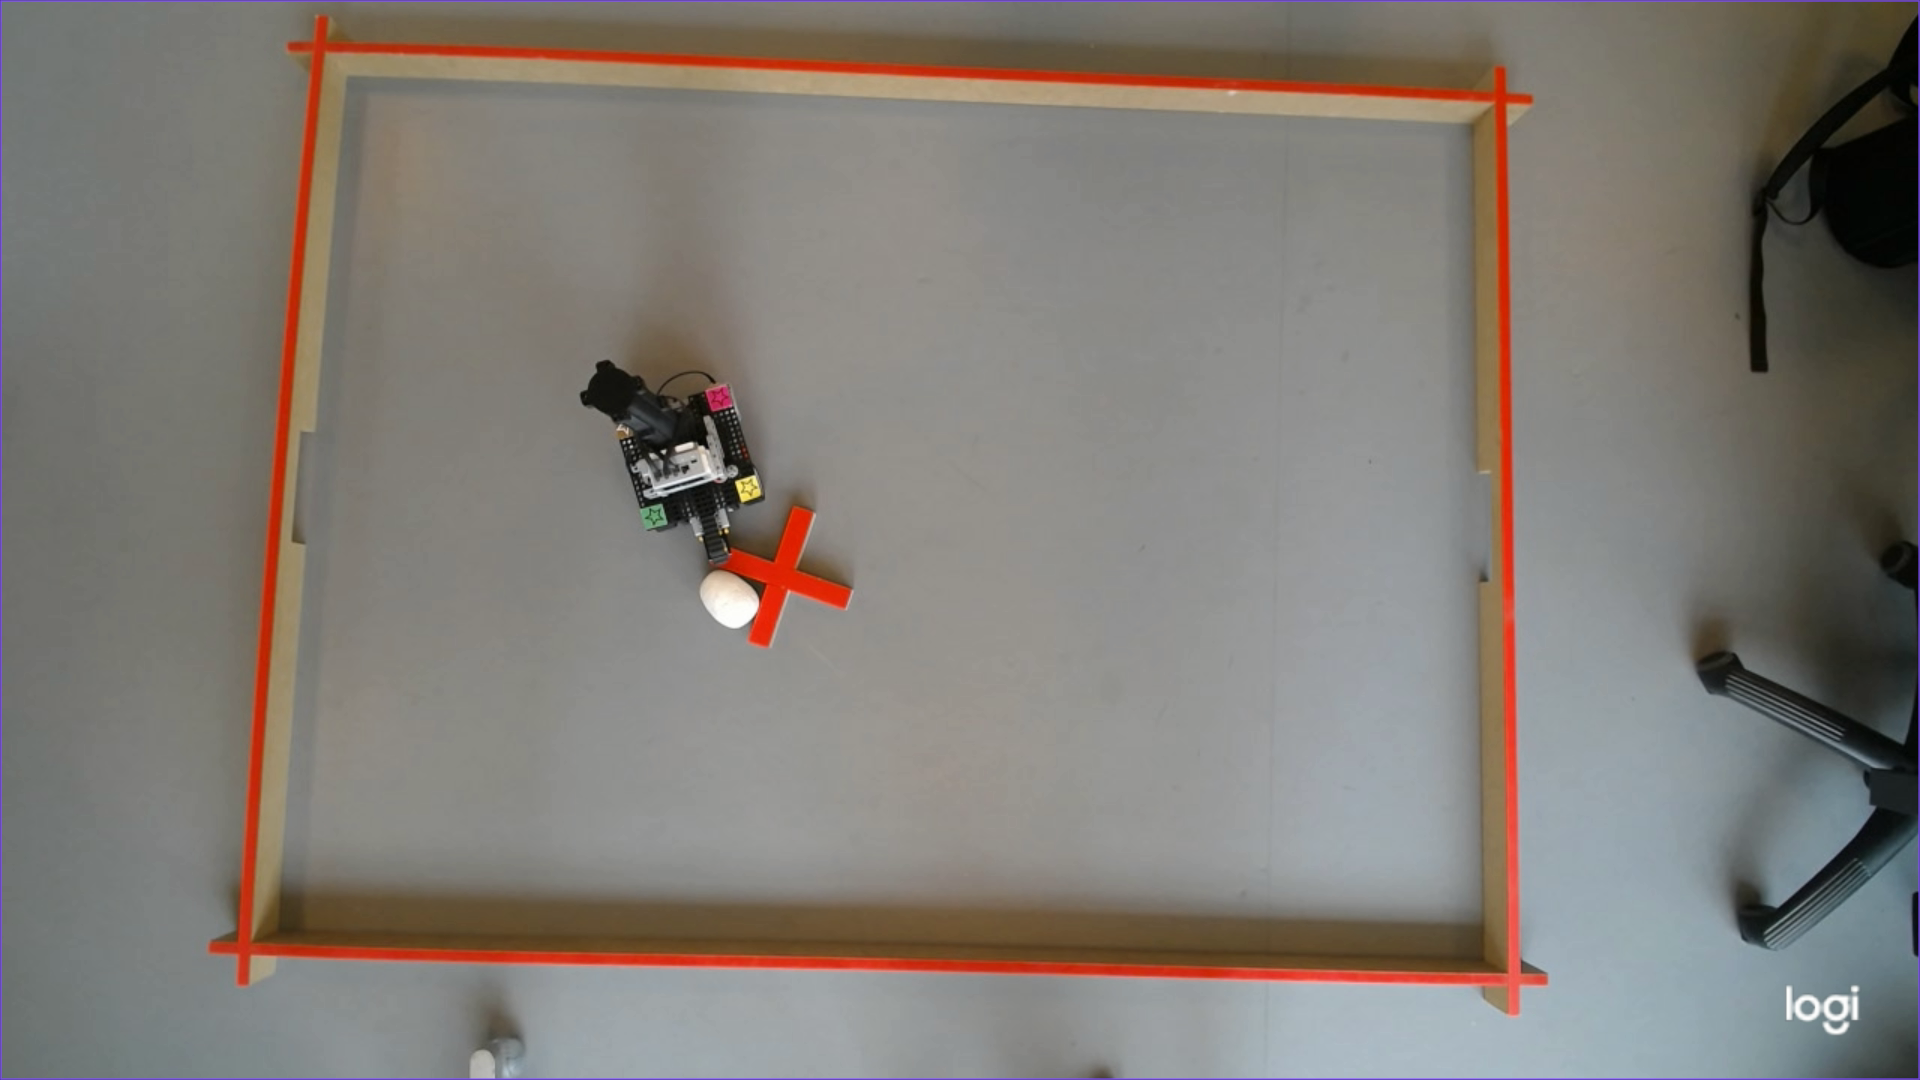corner_brown: (615, 421, 632, 440)
corner_green: (640, 502, 667, 527)
corner_pink: (705, 381, 732, 410)
corner_yellow: (736, 473, 762, 501)
cross: (724, 506, 851, 646)
egg: (700, 570, 758, 628)
playfield_corner: (214, 920, 272, 977), (1487, 955, 1542, 1007), (293, 22, 343, 69), (1478, 76, 1526, 124)
